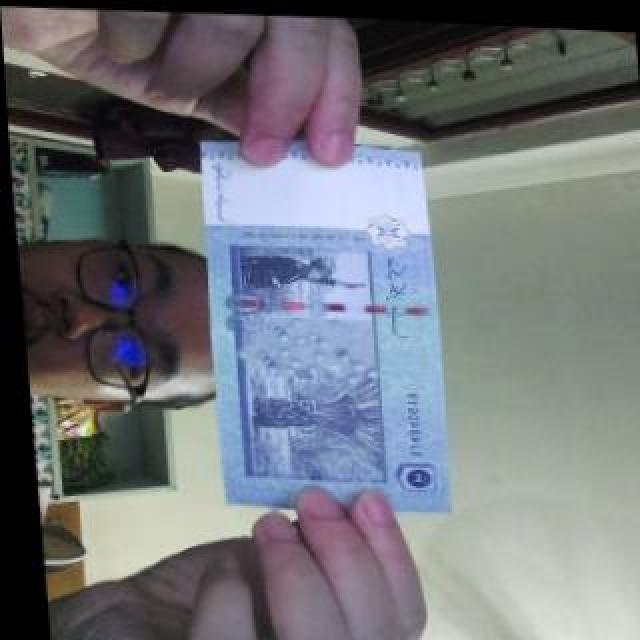50 Ringgit: (182, 126, 452, 524)
